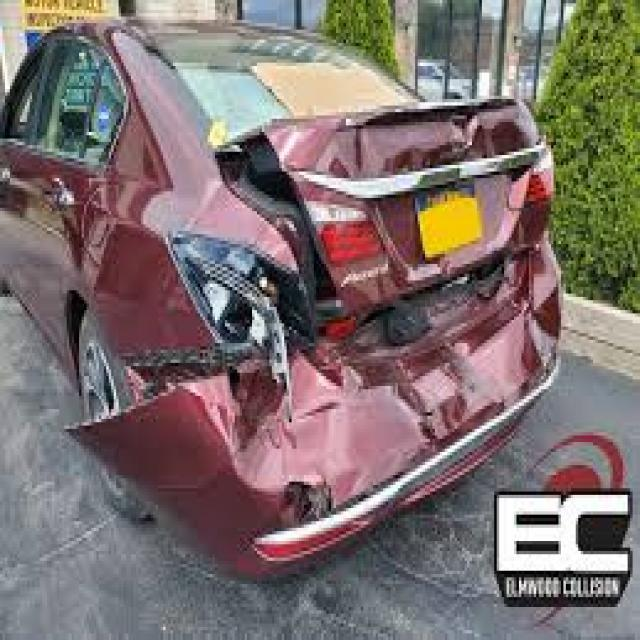damaged-trunk: (232, 92, 560, 313)
